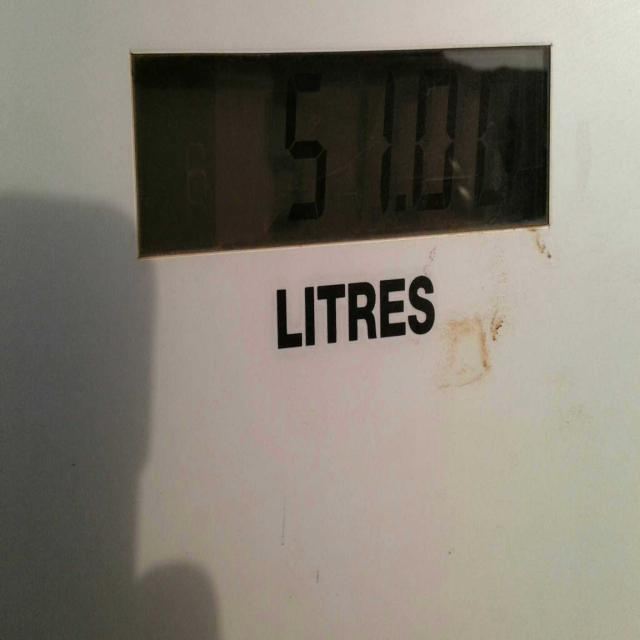.: (394, 189, 411, 227)
0: (468, 64, 530, 215), (407, 59, 462, 216)
1: (350, 60, 398, 231)
5: (272, 60, 333, 234)
